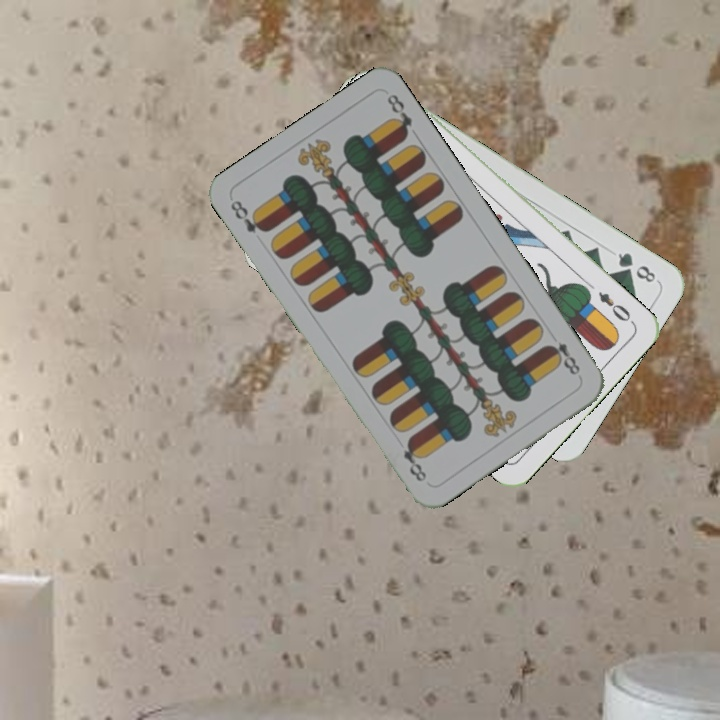E8: (542, 328, 583, 378), (226, 196, 271, 236)
EO: (594, 287, 637, 327)
G8: (613, 248, 661, 286)
